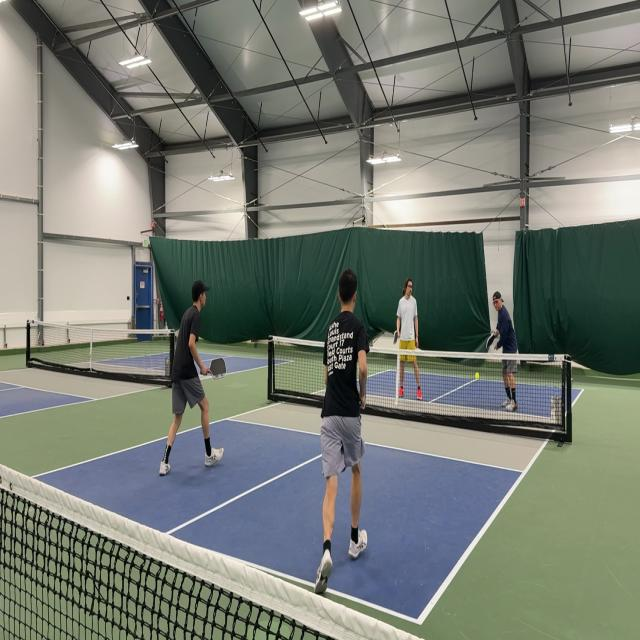ball: (474, 371, 480, 380)
